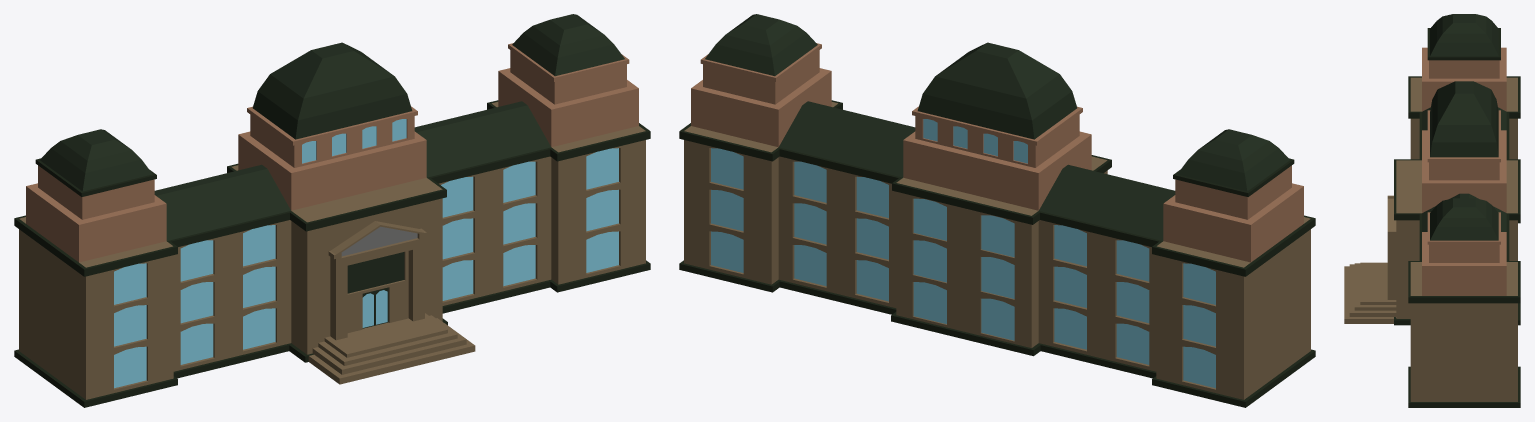
File: SM_Government_01_B.gltf
3 views of the same model, side by side, from view 1: azimuth 30°, elevation 25°; view 2: azimuth 150°, elevation 25°; view 3: azimuth 270°, elevation 25° (orthographic). The views are drawn at different scales.
Parts seen in each view (by area): view 1: SM_Government_01_B; view 2: SM_Government_01_B; view 3: SM_Government_01_B.
Part boxes in pixels (box(x1,y1,x2,y2)): SM_Government_01_B: box(14, 14, 650, 407); SM_Government_01_B: box(679, 14, 1315, 407); SM_Government_01_B: box(1344, 14, 1520, 407).
Size of the model in its own units: 7.45 by 3.3 by 2.51.
